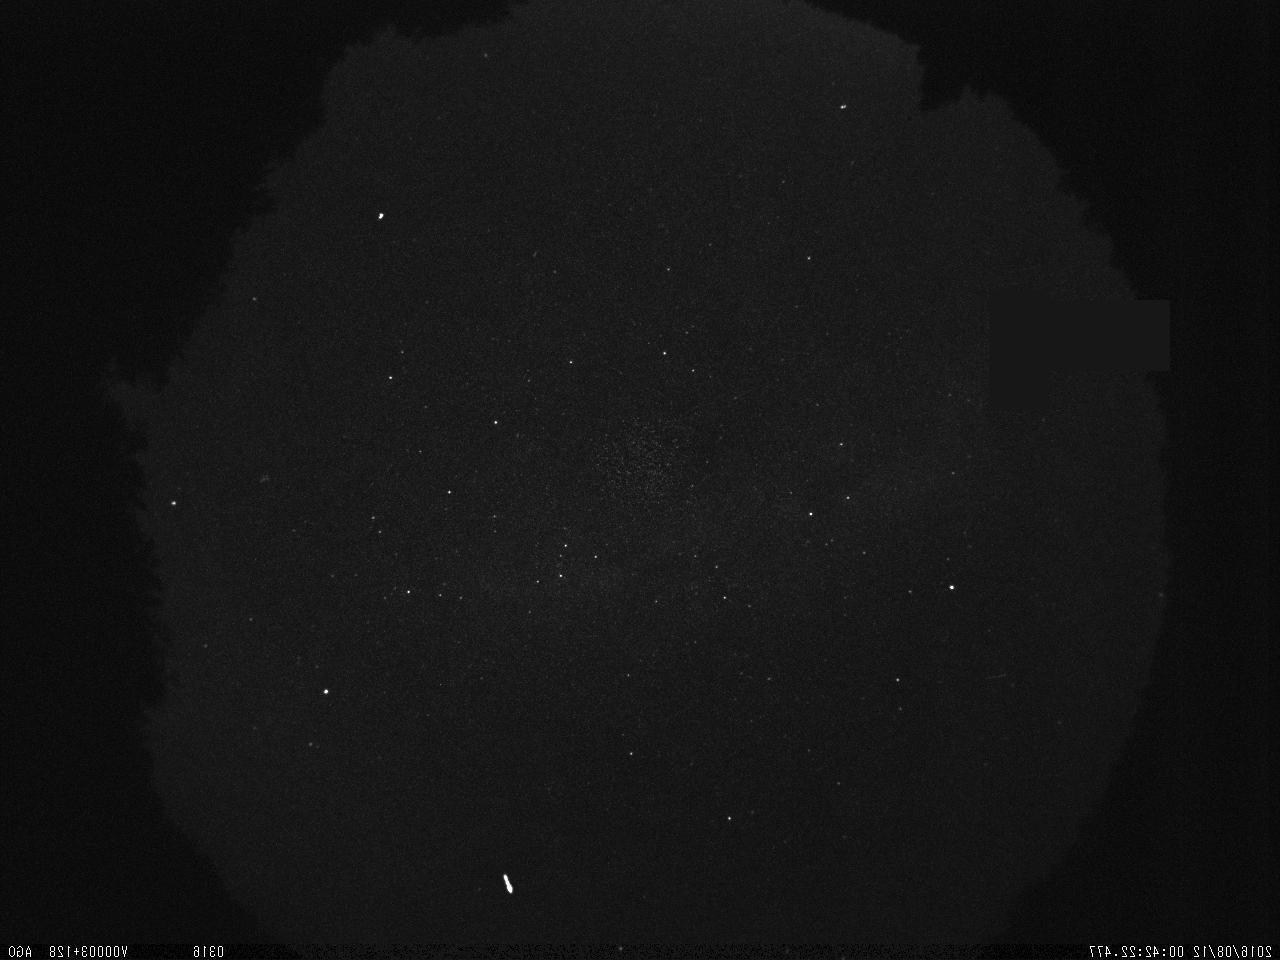meteor: (490, 862, 520, 901)
